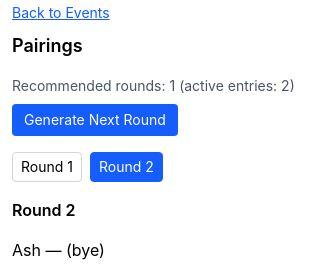
Scenario: Pairings › hides result buttons on a past round even for the Organizer
This screenshot has width=332, height=277.
Expected: the text "Ash — (bye)" is shown, [12,240,105,260]
Click the button "Round 1" at coordinates (47, 167), box [12,152,82,182]
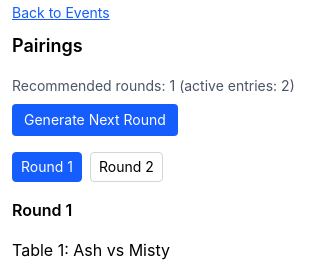
Now the text "Table 1: Ash vs Misty" is shown, box [12,240,170,260]
